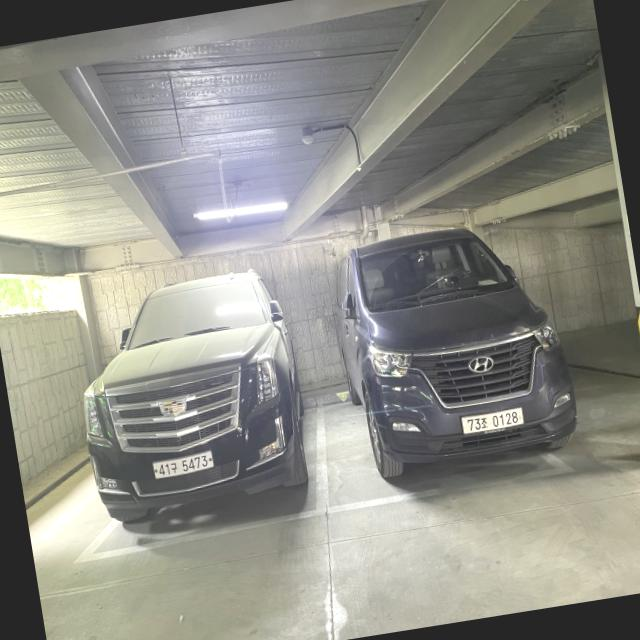car: (300, 246, 640, 521), (30, 281, 338, 556)
